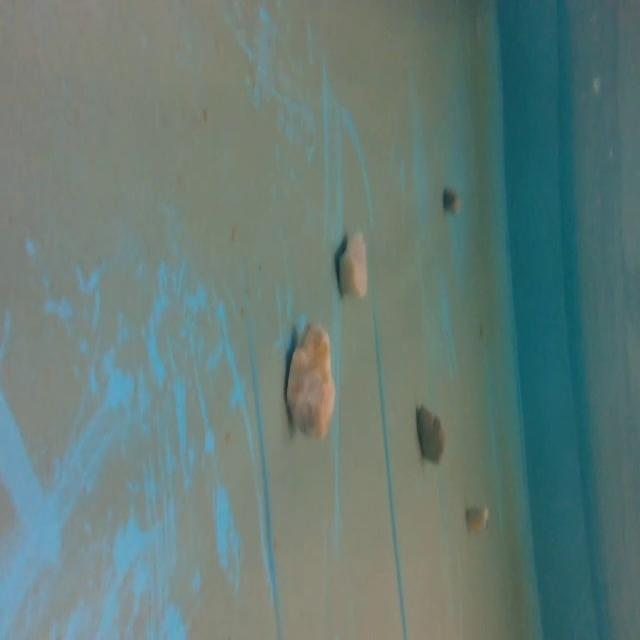rock: (280, 316, 342, 444), (334, 221, 369, 307), (411, 401, 446, 465), (462, 498, 490, 532), (440, 181, 464, 219)
